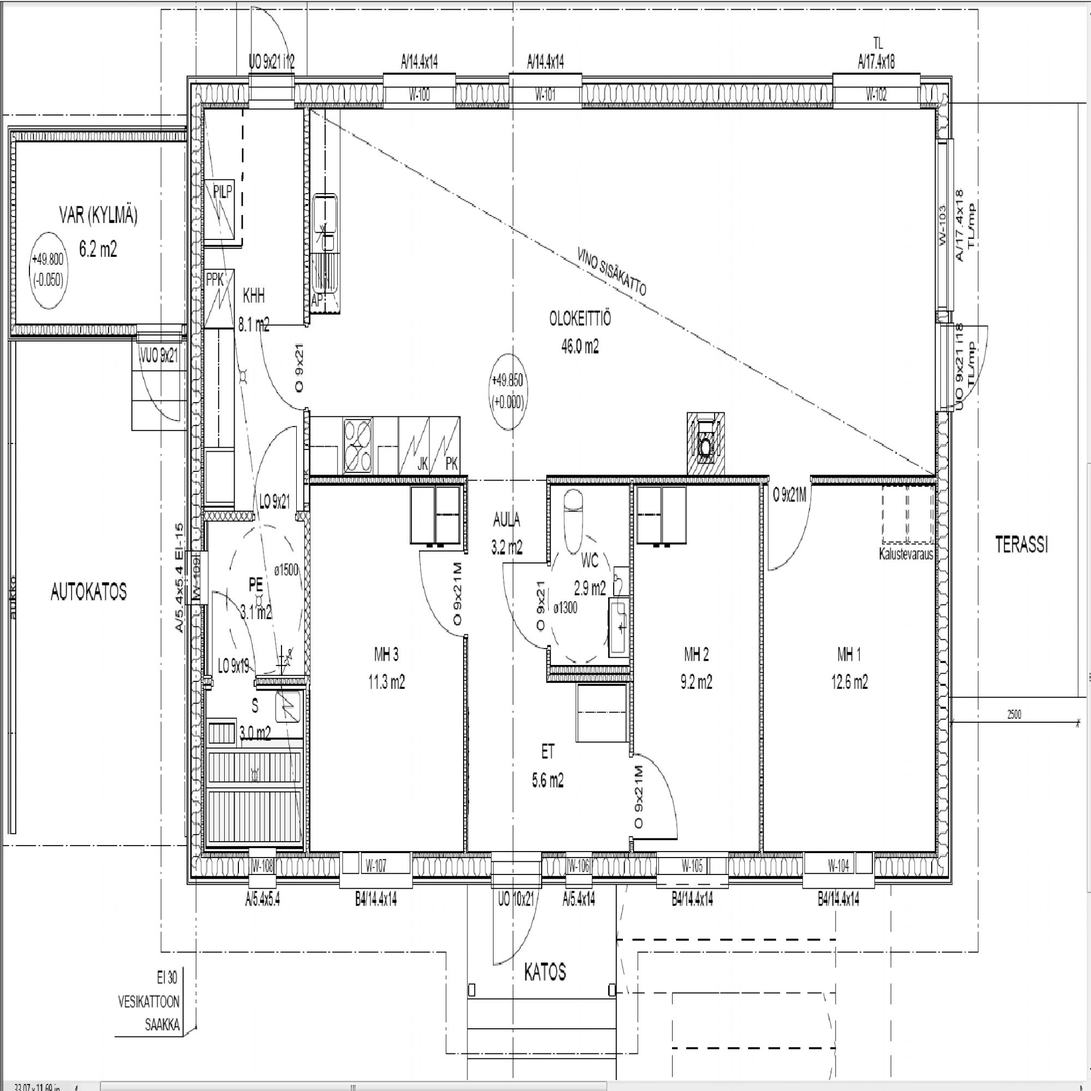wall: (187, 75, 952, 110), (187, 852, 952, 886), (935, 76, 953, 886), (8, 341, 17, 833), (546, 475, 953, 485), (186, 125, 204, 341), (187, 512, 208, 691), (7, 323, 204, 341), (188, 691, 206, 886), (7, 125, 203, 141), (304, 75, 311, 512), (188, 323, 204, 512), (463, 475, 468, 886), (759, 475, 764, 886), (187, 676, 311, 691), (8, 125, 16, 341), (304, 475, 468, 485), (547, 666, 634, 683), (304, 676, 311, 886), (187, 512, 311, 523), (186, 75, 203, 141), (629, 666, 634, 886), (305, 512, 311, 691), (546, 475, 551, 682), (629, 475, 634, 682)
